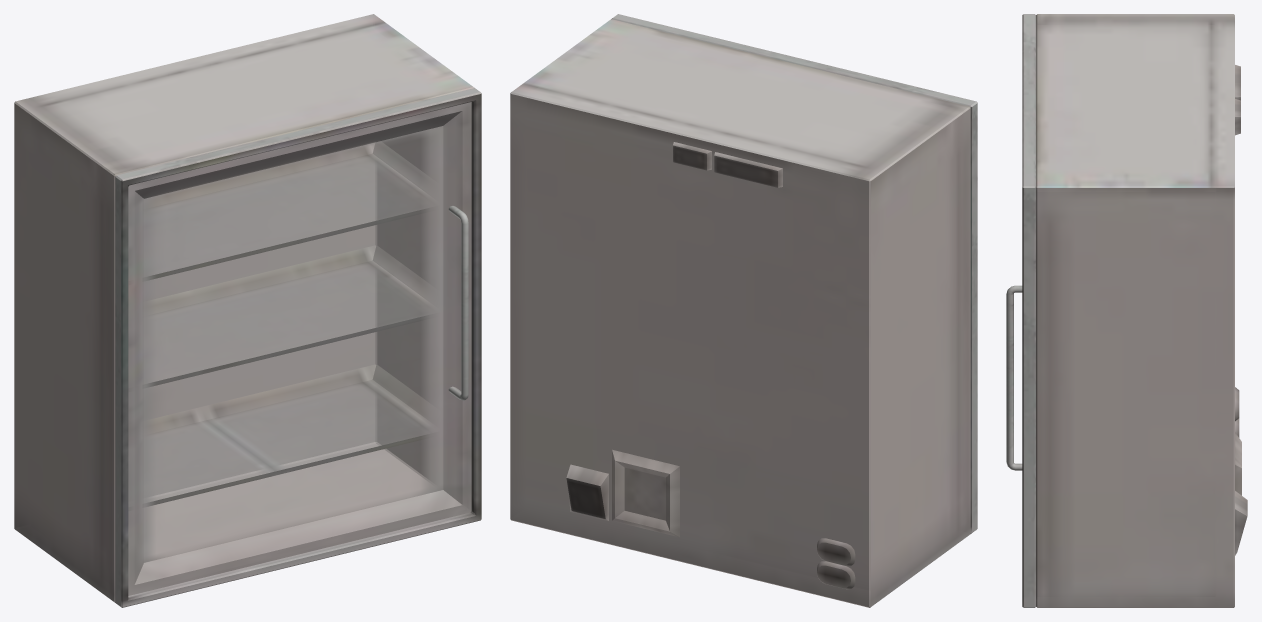
Rendered from ss-fridge.lod0.glb.
3 views of the same model, side by side, from view 1: azimuth 30°, elevation 25°; view 2: azimuth 150°, elevation 25°; view 3: azimuth 270°, elevation 25° (orthographic).
Parts seen in each view (by area): view 1: general_store_furniture_fridge_general_store_furniture_0; view 2: general_store_furniture_fridge_general_store_furniture_0; view 3: general_store_furniture_fridge_general_store_furniture_0.
Part boxes in pixels (left/top/right/bottom): general_store_furniture_fridge_general_store_furniture_0: left=14, top=14, right=481, bottom=607; general_store_furniture_fridge_general_store_furniture_0: left=510, top=14, right=977, bottom=607; general_store_furniture_fridge_general_store_furniture_0: left=1006, top=14, right=1247, bottom=607.
Bounding box in the file's own units: 2.1 × 2.38 × 1.23.
Materials: 1 (1 with a texture image).
